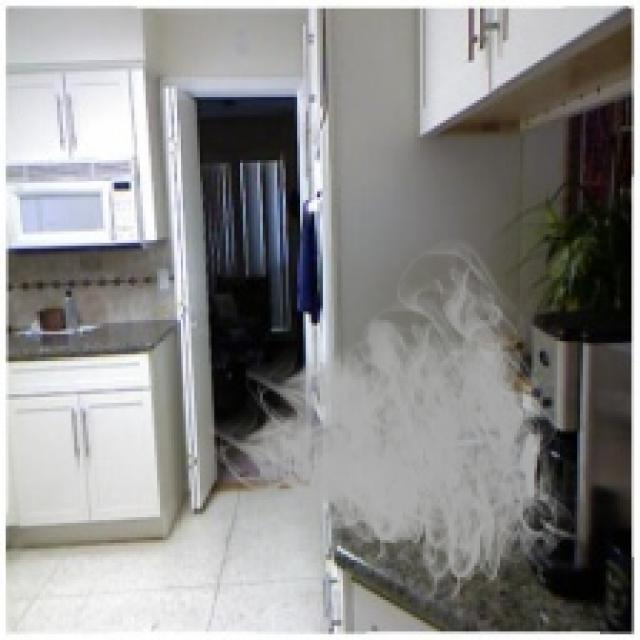Smoke: (208, 235, 583, 614)
